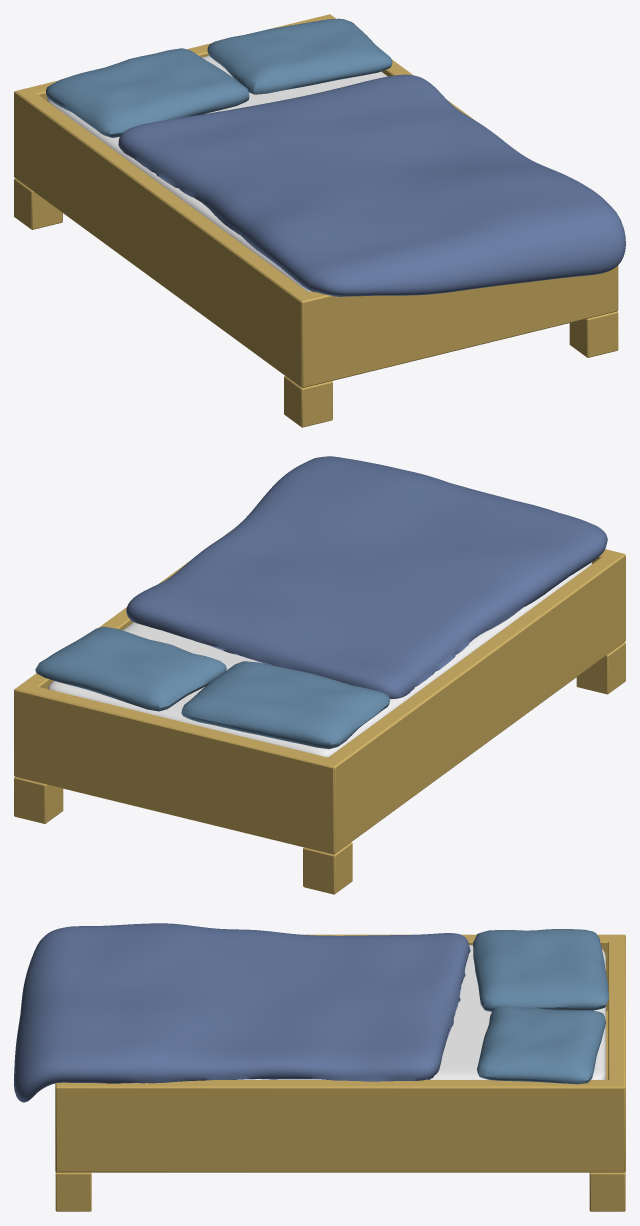
File: bett.fbx
The picture shows the model from 3 angles, top to bottom: view 1: azimuth 30°, elevation 25°; view 2: azimuth 150°, elevation 25°; view 3: azimuth 270°, elevation 25°; orthographic projection. The views are drawn at different scales.
Visible parts, largest first — view 1: bettdecke, bettrahmen, Lkissen, Rkissen, matratze, fuß1, fuß2, fuß3; view 2: bettdecke, bettrahmen, Lkissen, Rkissen, matratze, fuß3, fuß4, fuß1; view 3: bettdecke, bettrahmen, Lkissen, Rkissen, matratze, fuß2, fuß4.
Part boxes in pixels (x1,y1,x2,y2): bettdecke: [118, 74, 625, 296]; bettrahmen: [14, 14, 618, 388]; Lkissen: [46, 48, 249, 137]; Rkissen: [207, 18, 392, 94]; matratze: [47, 56, 387, 292]; fuß1: [284, 376, 332, 427]; fuß2: [569, 311, 618, 357]; fuß3: [14, 178, 62, 229]; bettdecke: [126, 456, 607, 698]; bettrahmen: [14, 531, 625, 854]; Lkissen: [181, 661, 390, 749]; Rkissen: [35, 626, 226, 711]; matratze: [48, 562, 591, 757]; fuß3: [303, 842, 352, 894]; fuß4: [14, 777, 63, 823]; fuß1: [576, 642, 625, 694]; bettdecke: [14, 923, 470, 1102]; bettrahmen: [55, 934, 625, 1172]; Lkissen: [473, 929, 608, 1011]; Rkissen: [477, 1006, 605, 1084]; matratze: [237, 945, 605, 1079]; fuß2: [55, 1172, 91, 1211]; fuß4: [589, 1172, 625, 1211].
Bounding box in the file's own units: 400 × 186 × 676.
